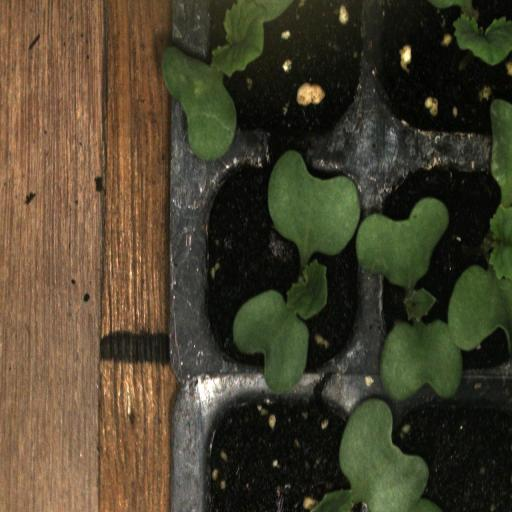seedling: (196, 158, 368, 374), (196, 0, 366, 158)
twoseedling: (369, 152, 512, 377)
